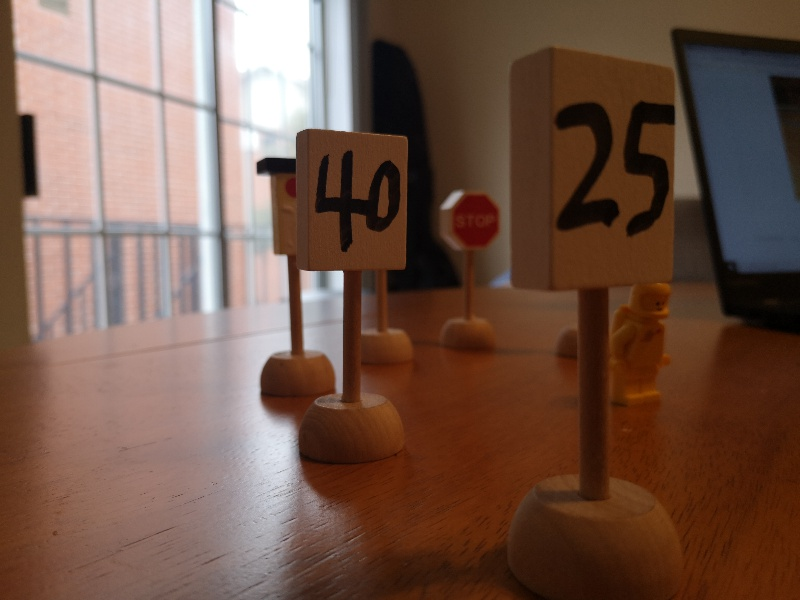Person: (615, 284, 678, 408)
Red Traffic Light: (257, 156, 294, 256)
Speed Limit 25: (509, 47, 677, 287)
Speed Limit 40: (295, 127, 409, 273)
Stop Sign: (438, 190, 503, 254)
